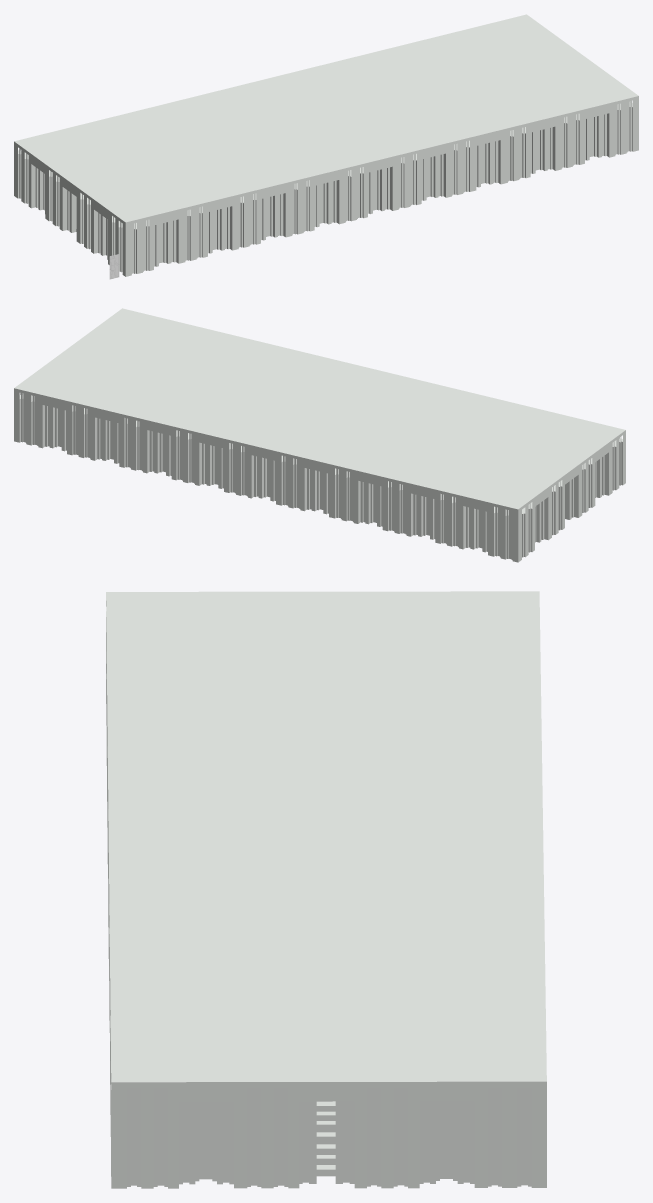
The picture shows the model from 3 angles, top to bottom: view 1: azimuth 30°, elevation 25°; view 2: azimuth 150°, elevation 25°; view 3: azimuth 270°, elevation 25°; orthographic projection. The views are drawn at different scales.
Visible parts, largest first — view 1: Mesh1 Model; view 2: Mesh1 Model; view 3: Mesh1 Model.
Part boxes in pixels (x1=…): Mesh1 Model: x1=14, y1=14, x2=638, y2=276; Mesh1 Model: x1=14, y1=308, x2=625, y2=562; Mesh1 Model: x1=106, y1=591, x2=546, y2=1188.
Bounding box in the file's own units: 38.04 × 3.74 × 14.05.
2 materials, 2 textured.
